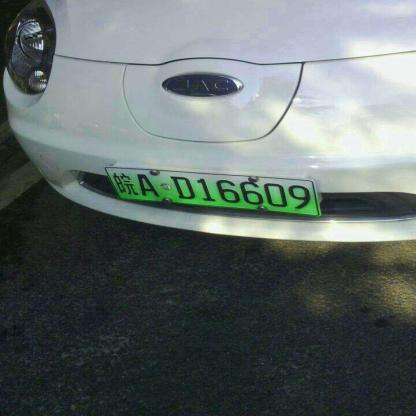lp: (104, 167, 317, 214)
